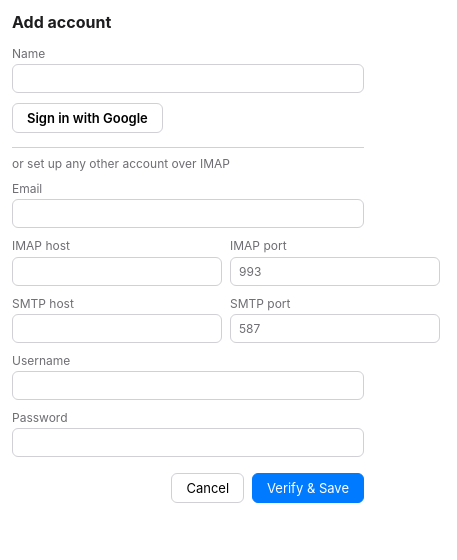
Test: signs in with Google under the typed name, cancellable while waiting
The image size is (457, 560).
Type "Gmail" into the field labelled "Name" at (188, 79), box x1=12 y1=64 x2=364 y2=93
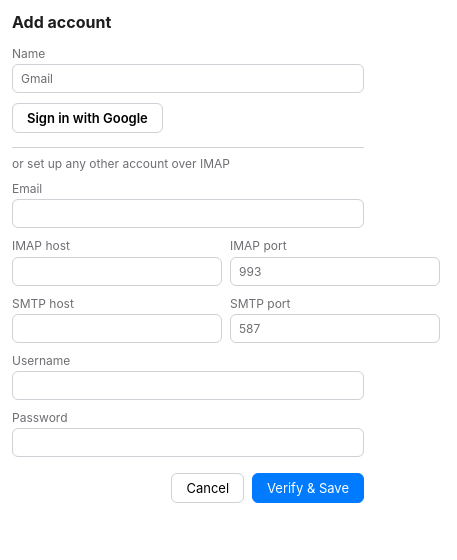
Click the button "Sign in with Google" at (87, 118), box x1=12 y1=103 x2=163 y2=133
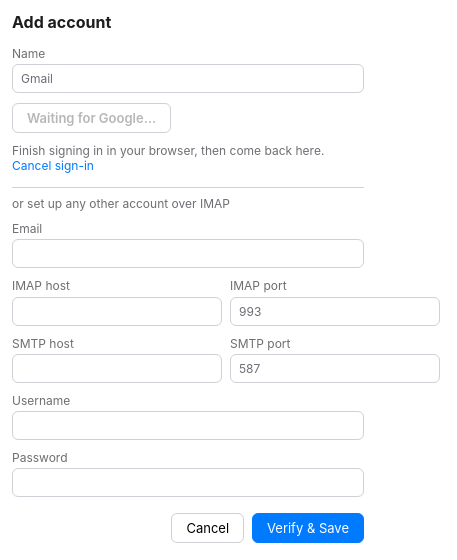
Expected: the text "Finish signing in in your browser" is shown, x1=12 y1=143 x2=324 y2=158
Expected: the button "Verify & Save" is disabled, x1=252 y1=513 x2=364 y2=543
Click the button "Cancel sign-in" at (53, 166), box x1=12 y1=158 x2=94 y2=173
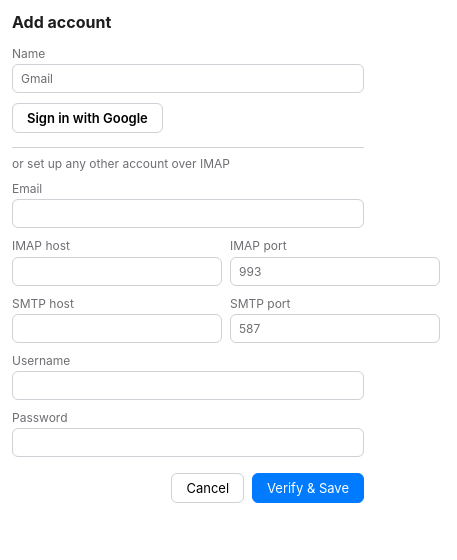
Expected: the button "Sign in with Google" is enabled, x1=12 y1=103 x2=163 y2=133
